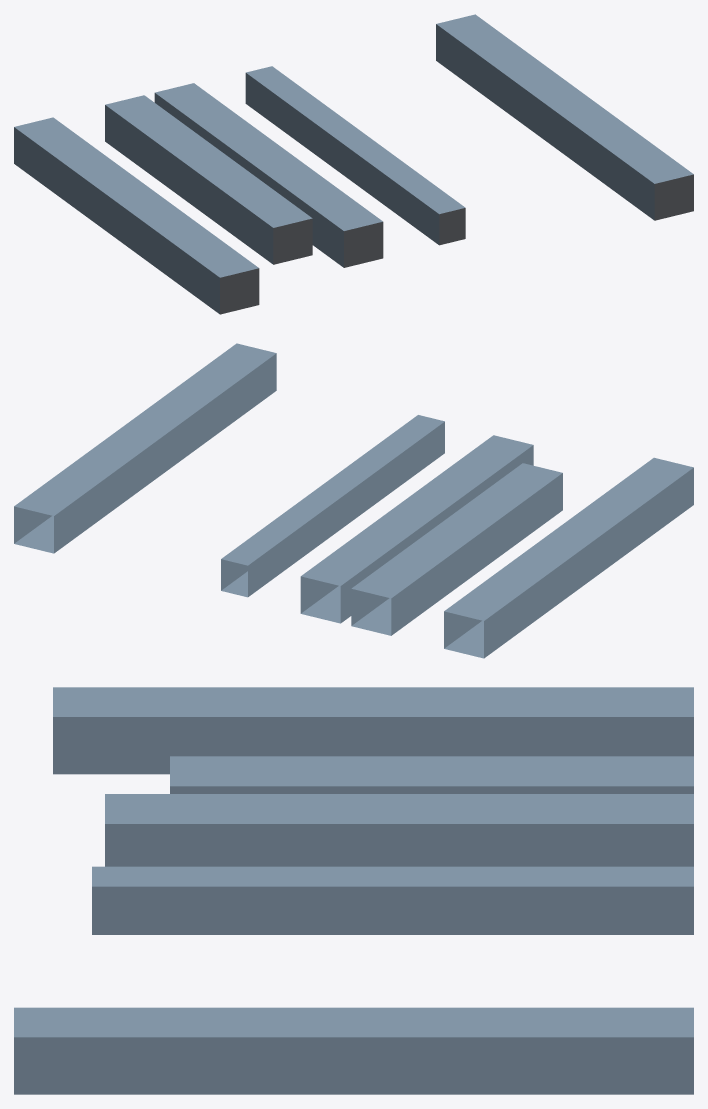
File: island_bldg_11_10.obj
3 renders of one model, top to bottom at view 1: azimuth 30°, elevation 25°; view 2: azimuth 150°, elevation 25°; view 3: azimuth 270°, elevation 25°, orthographic. The views are drawn at different scales.
Parts seen in each view (by area): view 1: island_bldg_11_10; view 2: island_bldg_11_10; view 3: island_bldg_11_10.
Part boxes in pixels (x1,y1,x2,y2): island_bldg_11_10: [14, 14, 693, 314]; island_bldg_11_10: [14, 343, 693, 658]; island_bldg_11_10: [14, 687, 693, 1094].
Bounding box in the file's own units: 223 × 17 × 183.
